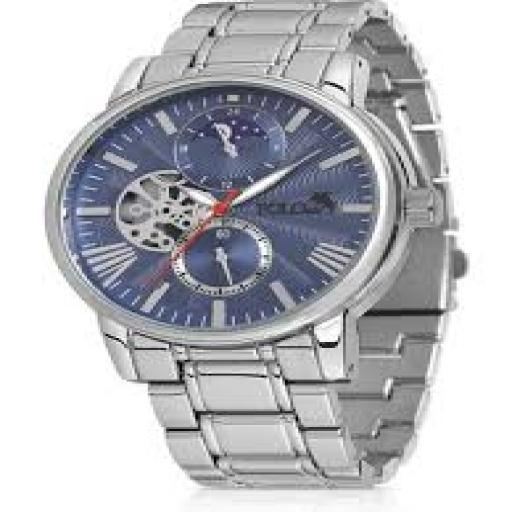KolSaati: (51, 4, 452, 472)
